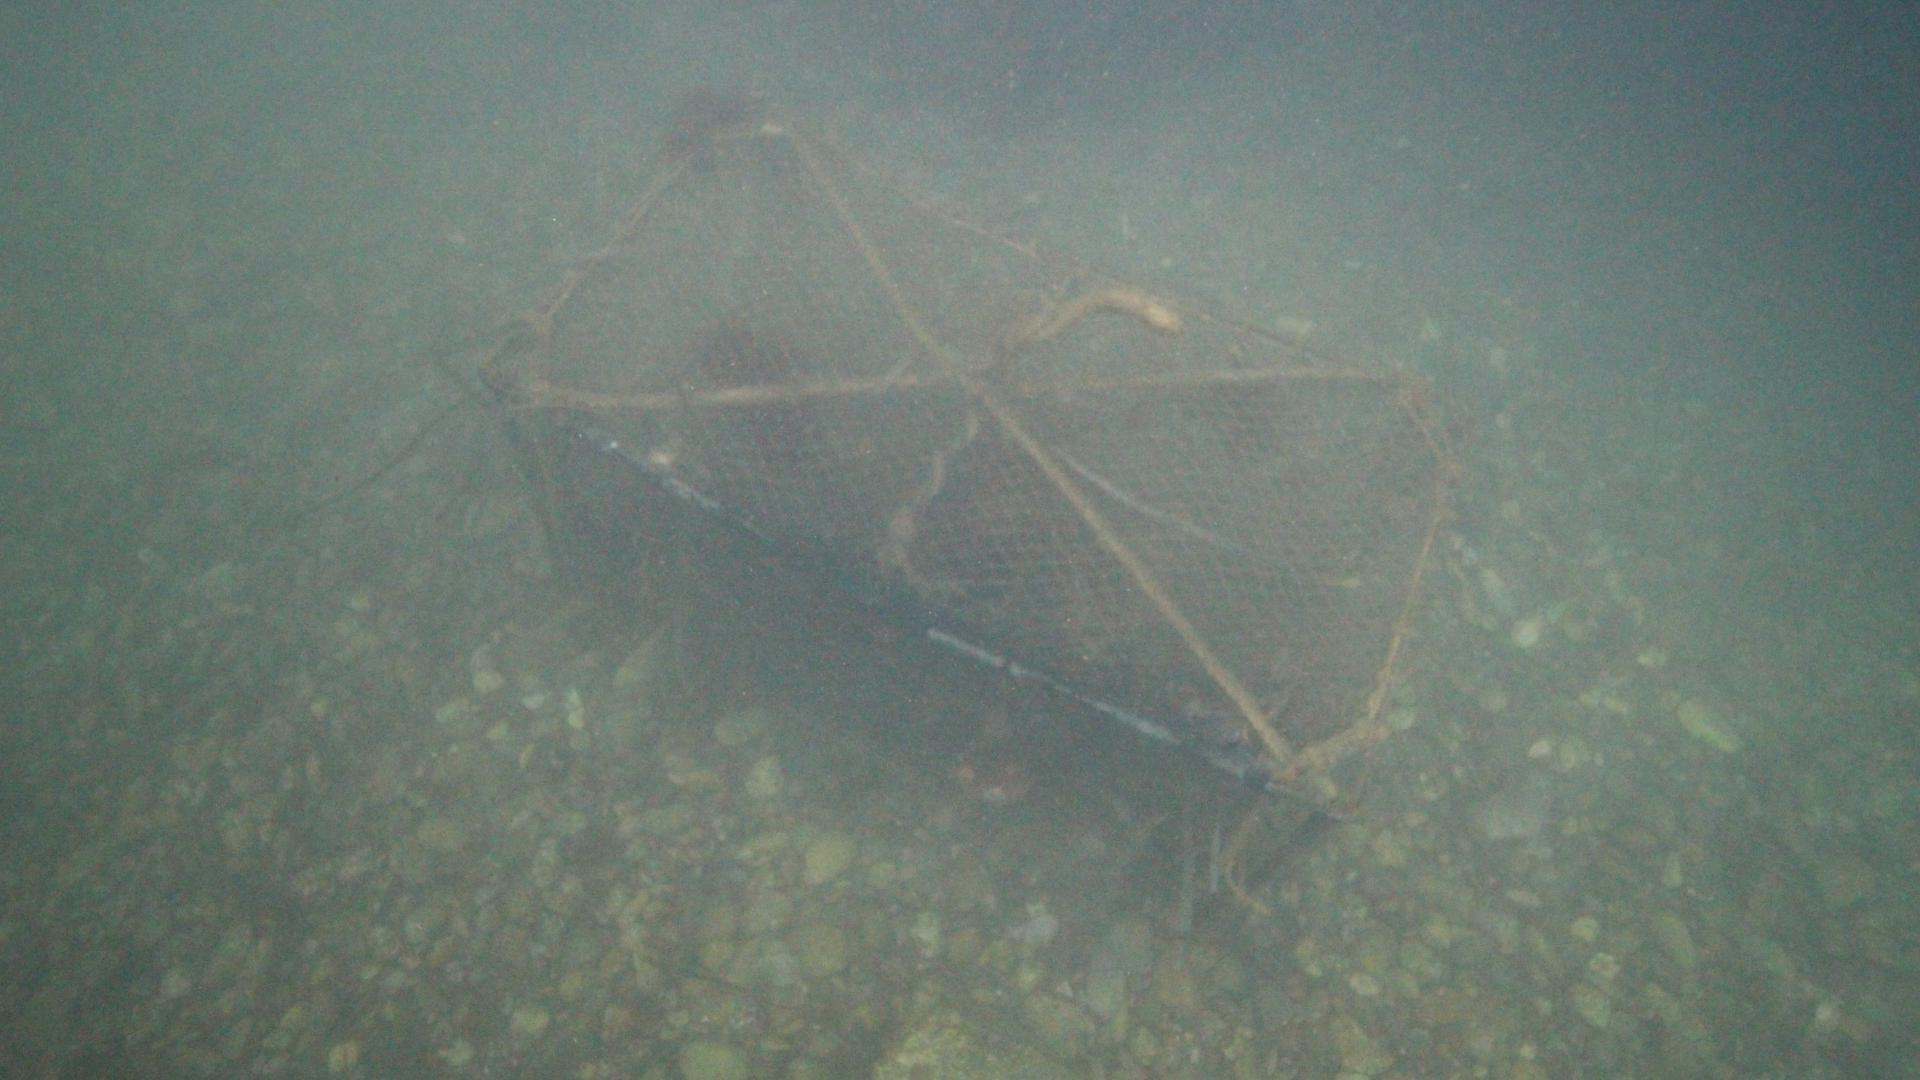rectangular fish trap: (487, 111, 1462, 862)
